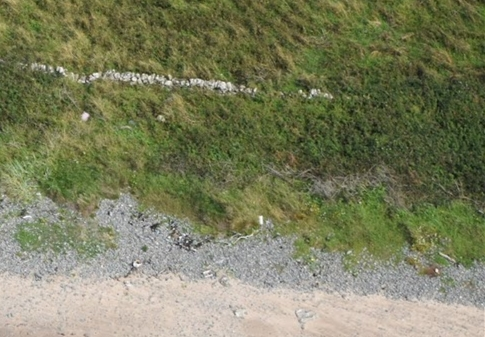white_in_green: (67, 97, 106, 133)
